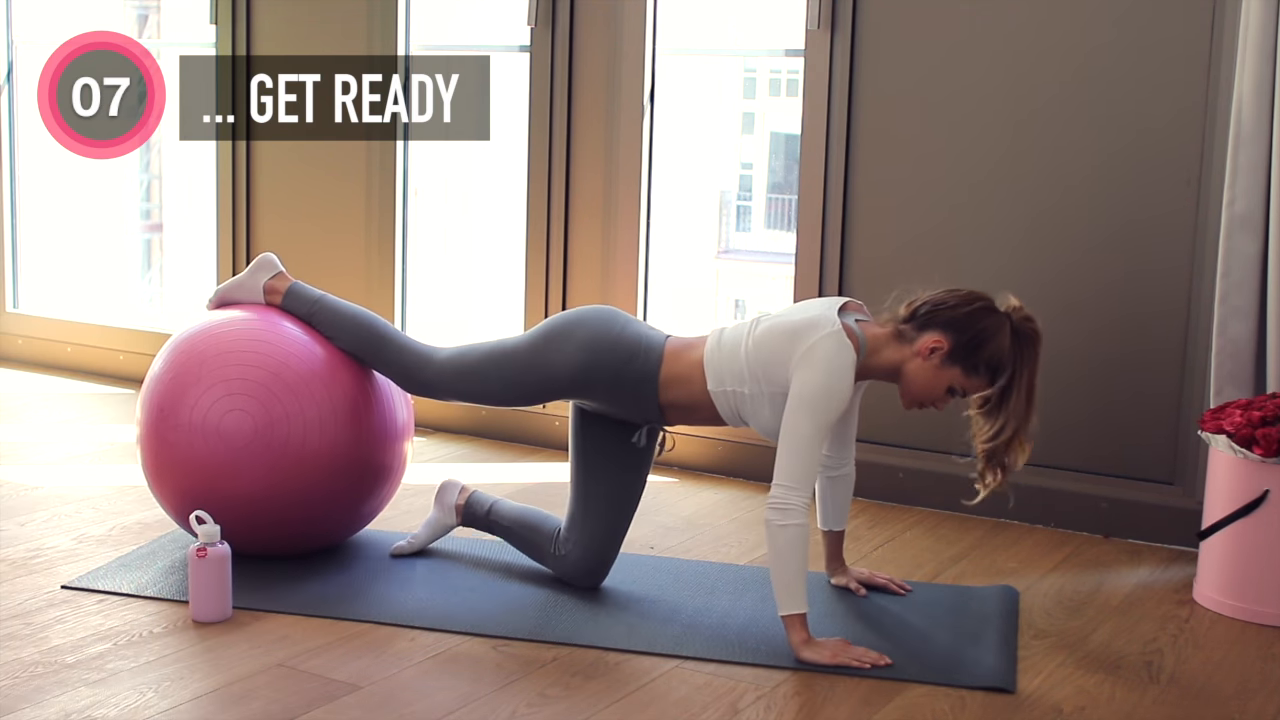yogaball: (129, 301, 418, 564)
